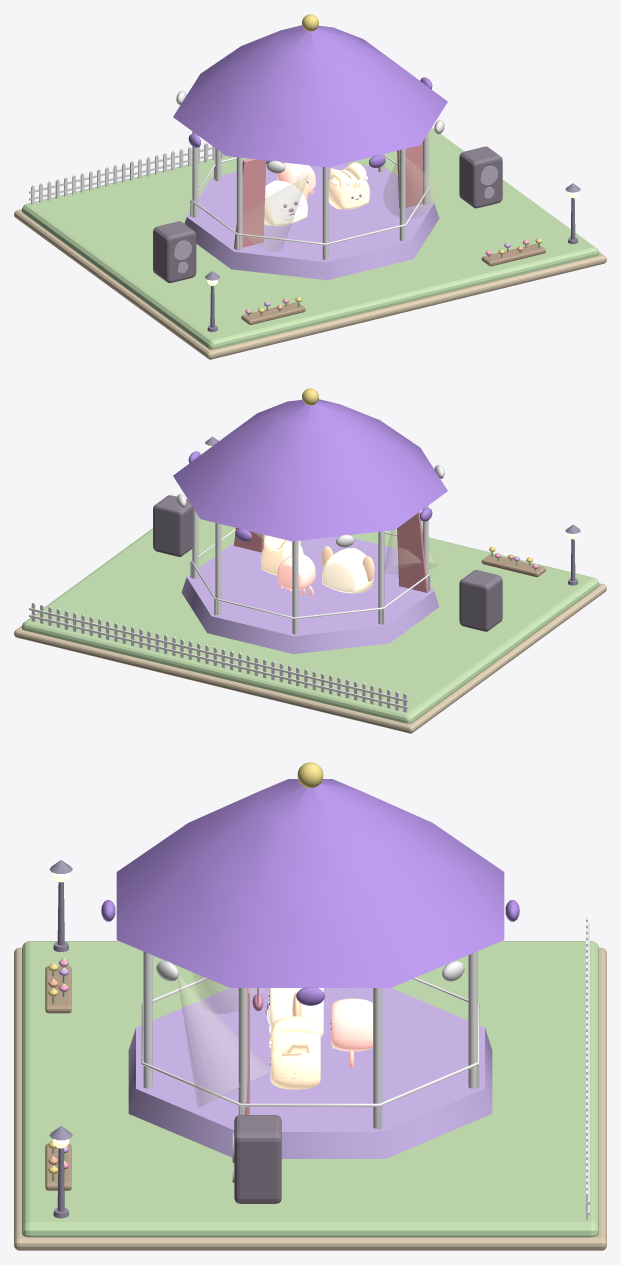
The model's file is building_bandstand_L08.glb.
3 renders of one model, top to bottom at view 1: azimuth 30°, elevation 25°; view 2: azimuth 150°, elevation 25°; view 3: azimuth 270°, elevation 25°, orthographic. The views are drawn at different scales.
Parts seen in each view (by area): view 1: bandstand_L8, object 38, object 39, object 17, object 7, object 29; view 2: bandstand_L8, object 7, object 29, object 17, object 38; view 3: bandstand_L8, object 39, object 17, object 29, object 38, object 7.
Boxes of the visible parts, box(x1,y1,x2,y2) form: bandstand_L8: box(14, 14, 606, 359); object 38: box(239, 175, 308, 251); object 39: box(383, 155, 437, 218); object 17: box(328, 162, 369, 209); object 7: box(264, 180, 307, 225); object 29: box(277, 162, 315, 192); bandstand_L8: box(14, 388, 606, 733); object 7: box(322, 548, 373, 593); object 29: box(277, 553, 315, 590); object 17: box(261, 535, 303, 575); object 38: box(384, 529, 436, 573); bandstand_L8: box(14, 762, 606, 1250); object 39: box(178, 976, 270, 1107); object 17: box(270, 1016, 320, 1089); object 29: box(331, 998, 372, 1051); object 38: box(192, 972, 264, 1013); object 7: box(270, 988, 323, 1036).
Size of the model in its own units: 26.61 by 14.37 by 22.6.
